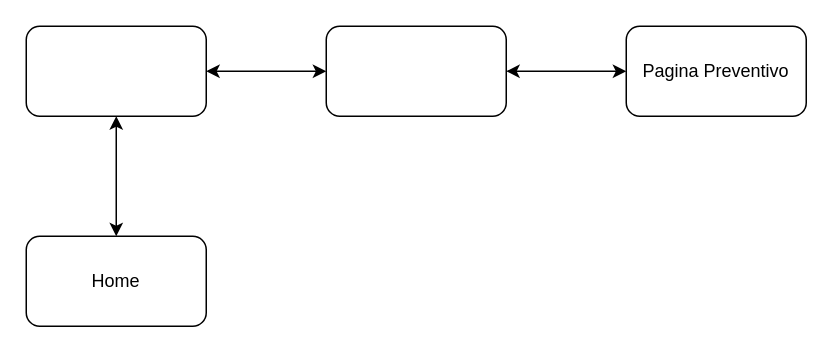
Image size: 833x353. Some labels were removed from this diagram. The centre of each missing label's shape, as x and y in pixels:
Dashboard: the point at 115,70
Pagina Ordini e Preventivi: the point at 415,70
